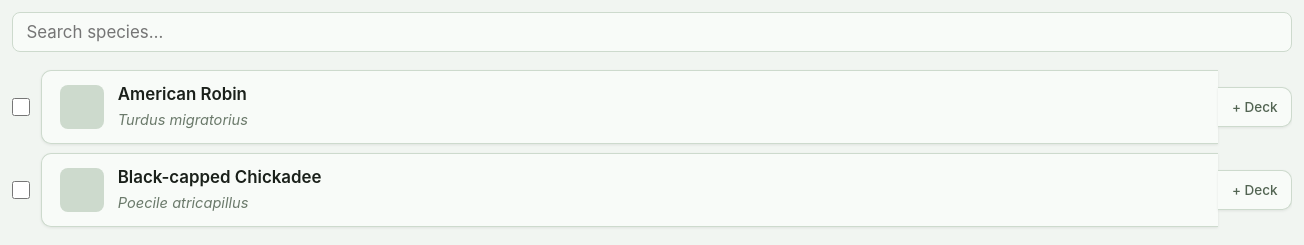
Scenario: Explore page › select-all selects all displayed non-pinned species
In the field with placeholder "Search species…": x=652, y=32 [12,12,1292,52], type "ro"
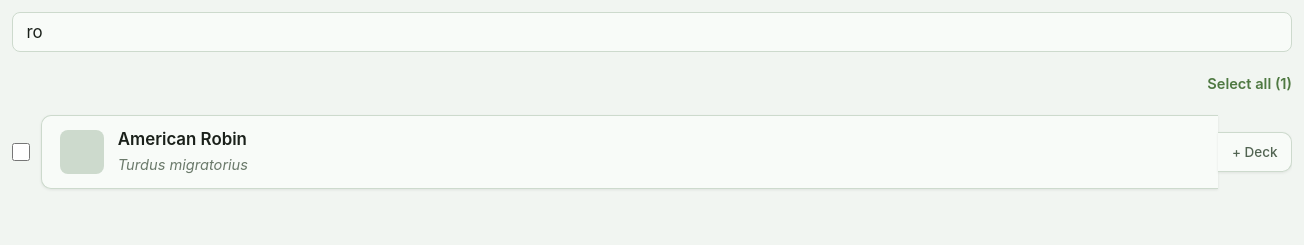
Expected: the button "Select all (1)" is shown
Click the button "Select all (1)": x=1250, y=84 [1207,70,1292,97]
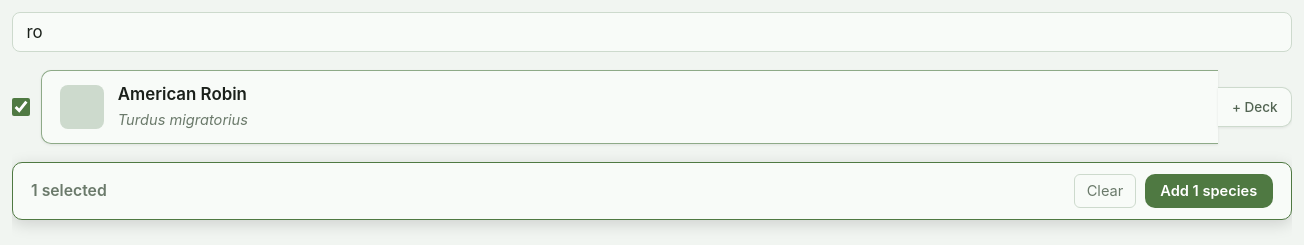
Expected: the element showing "1 selected Clear Add 1 species" is shown, [12,162,1292,220]
